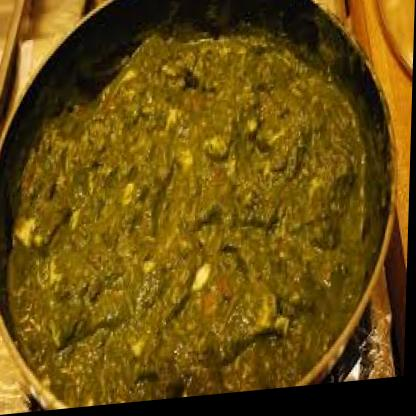palak_paneer: (4, 14, 389, 415)
